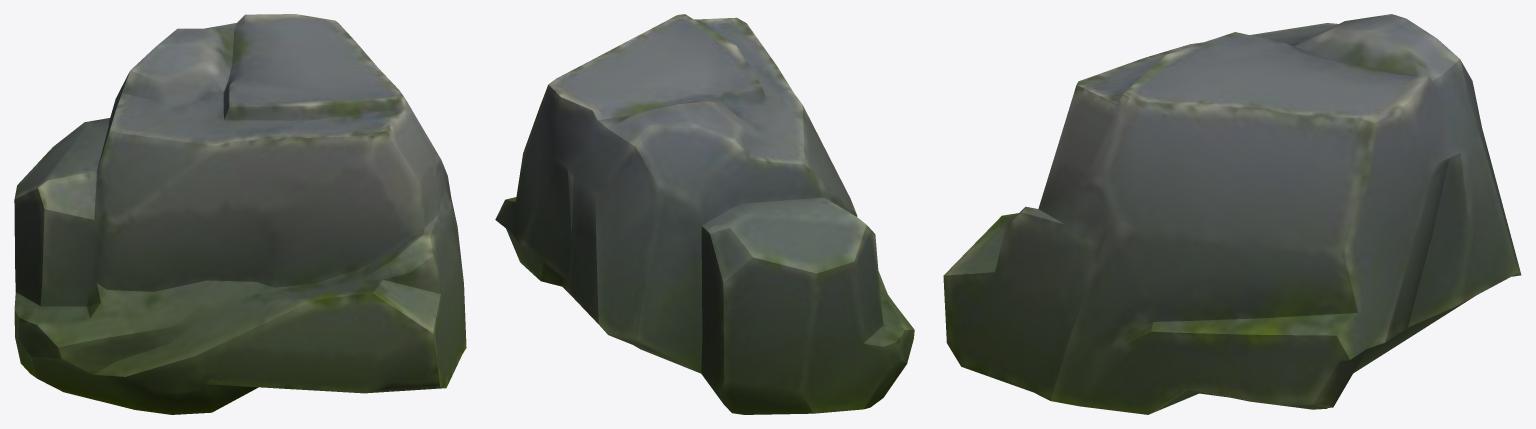
File: rock_medium_3.gltf
The picture shows the model from 3 angles, left to right: view 1: azimuth 30°, elevation 25°; view 2: azimuth 150°, elevation 25°; view 3: azimuth 270°, elevation 25°; orthographic projection. The views are drawn at different scales.
Parts seen in each view (by area): view 1: Rock_Medium_3; view 2: Rock_Medium_3; view 3: Rock_Medium_3.
Part boxes in pixels (x1,y1,x2,y2): Rock_Medium_3: (14, 14, 466, 414); Rock_Medium_3: (495, 14, 914, 414); Rock_Medium_3: (943, 14, 1521, 414).
Size of the model in its own units: 3.42 by 2.32 by 3.48.
Materials: 1 (1 with a texture image).
